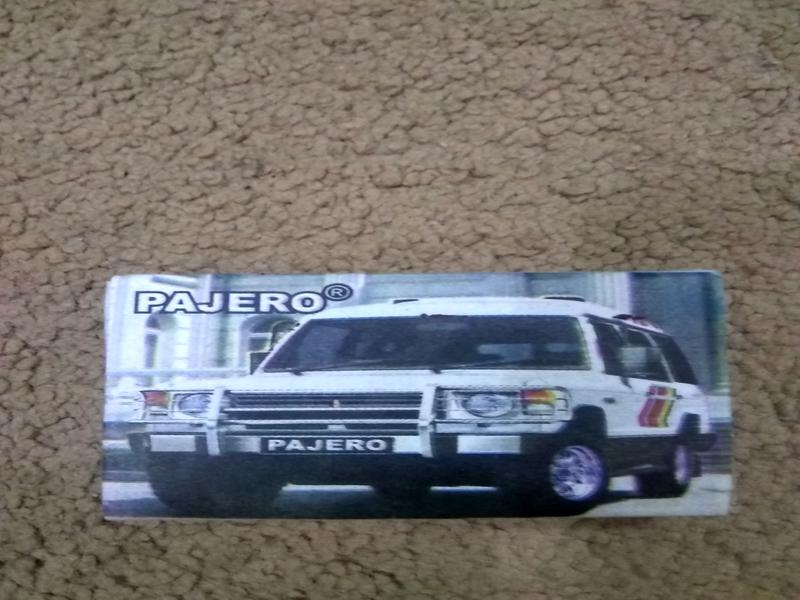pajero: (98, 274, 737, 518)
